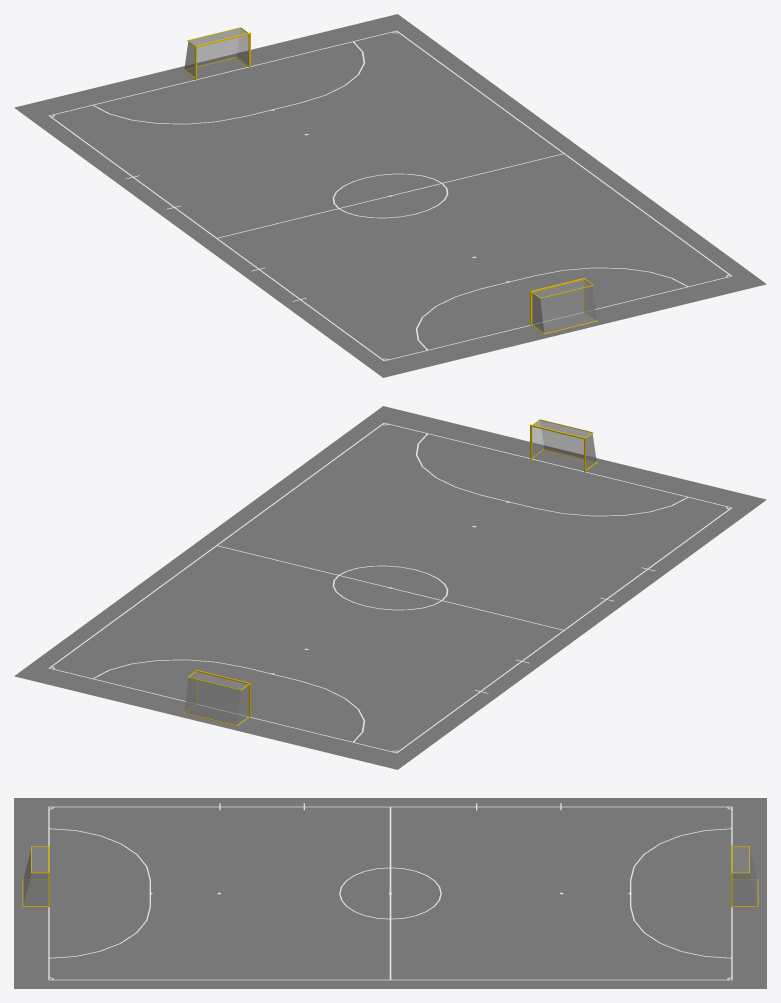
Rendered from Futbol5.fbx.
The picture shows the model from 3 angles, top to bottom: view 1: azimuth 30°, elevation 25°; view 2: azimuth 150°, elevation 25°; view 3: azimuth 270°, elevation 25°; orthographic projection.
Visible parts, largest first — view 1: Group1, Group3, Group2; view 2: Group1, Group2, Group3; view 3: Group1, Group2, Group3.
Part boxes in pixels (box(x1,y1,x2,y2)): Group1: box(14, 14, 766, 377); Group3: box(530, 278, 597, 334); Group2: box(183, 27, 250, 80); Group1: box(14, 406, 766, 769); Group2: box(183, 670, 250, 726); Group3: box(530, 419, 597, 472); Group1: box(14, 798, 766, 988); Group2: box(731, 845, 758, 907); Group3: box(22, 845, 49, 907).
Size of the model in its own units: 24.64 by 2.08 by 41.07.
